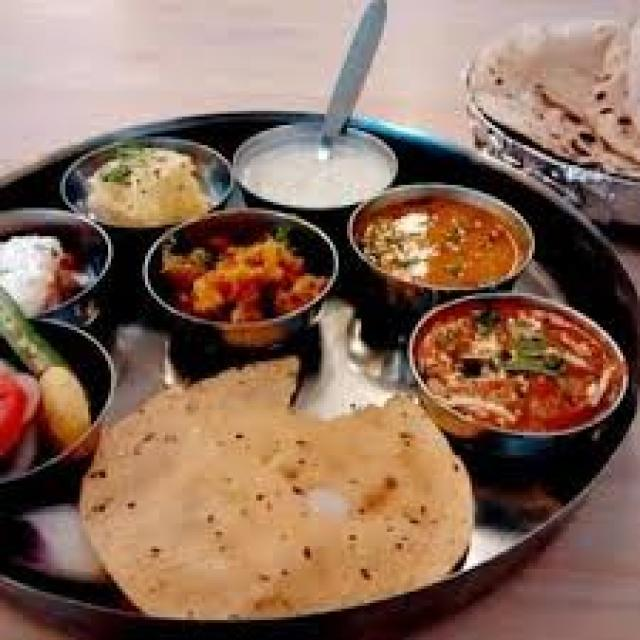dal: (77, 141, 211, 240)
dosa: (106, 363, 453, 620)
veg-fry: (405, 293, 623, 449), (144, 199, 338, 348), (341, 178, 540, 311)
